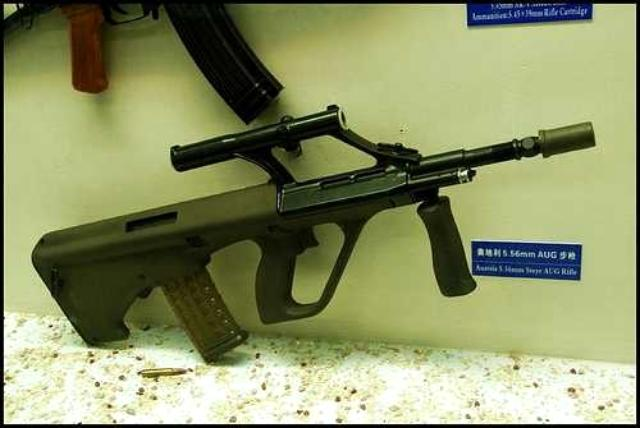rifle: (29, 80, 603, 366)
